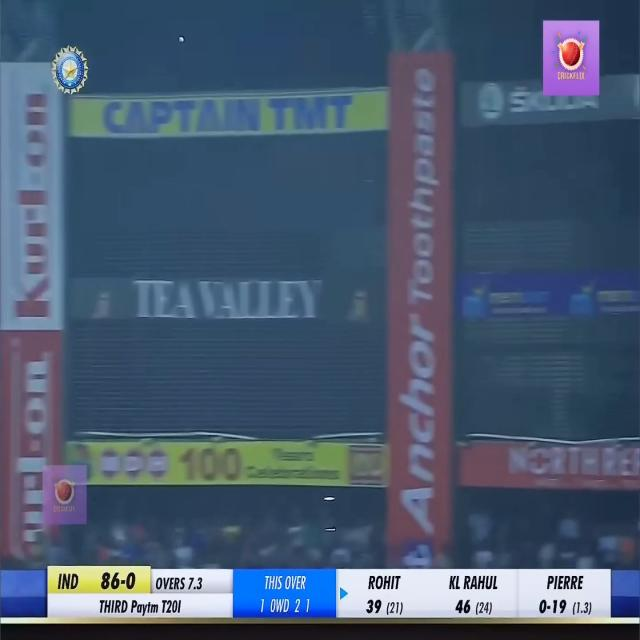fully_visible: (126, 596, 160, 620)
